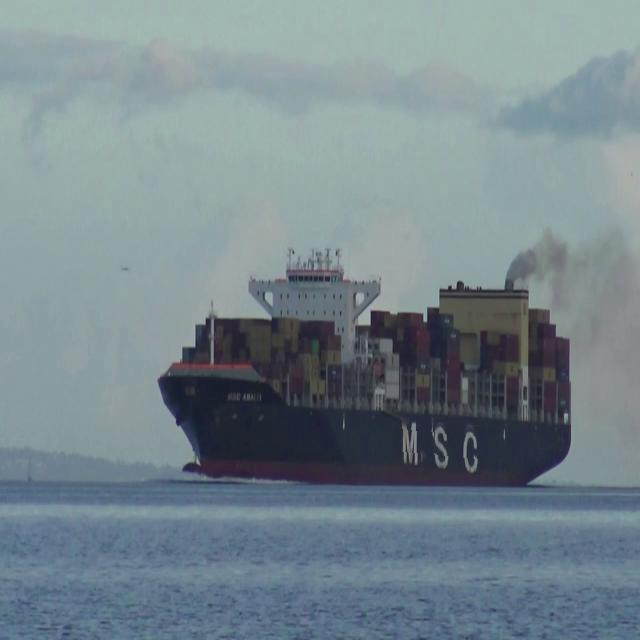OCR: (395, 417, 481, 475)
